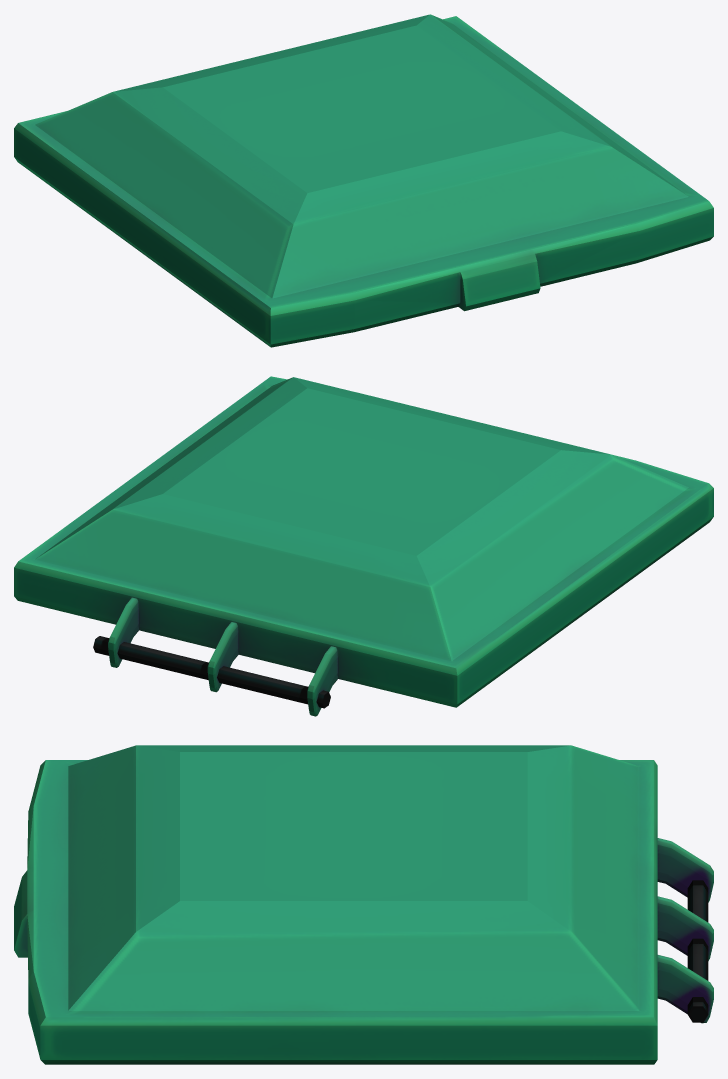
3 views of the same model, one above another, from view 1: azimuth 30°, elevation 25°; view 2: azimuth 150°, elevation 25°; view 3: azimuth 270°, elevation 25° (orthographic). The views are drawn at different scales.
Size of the model in its own units: 1.26 by 0.3058 by 1.43.
Materials: 5 (5 with a texture image).
